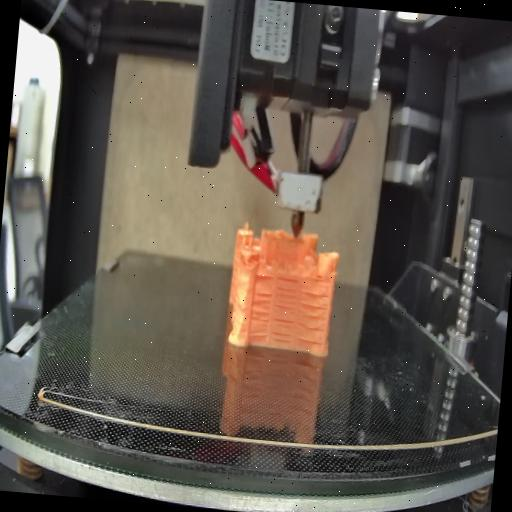cracks: (269, 275, 300, 344), (296, 289, 330, 345), (250, 290, 273, 340), (254, 270, 276, 284)
